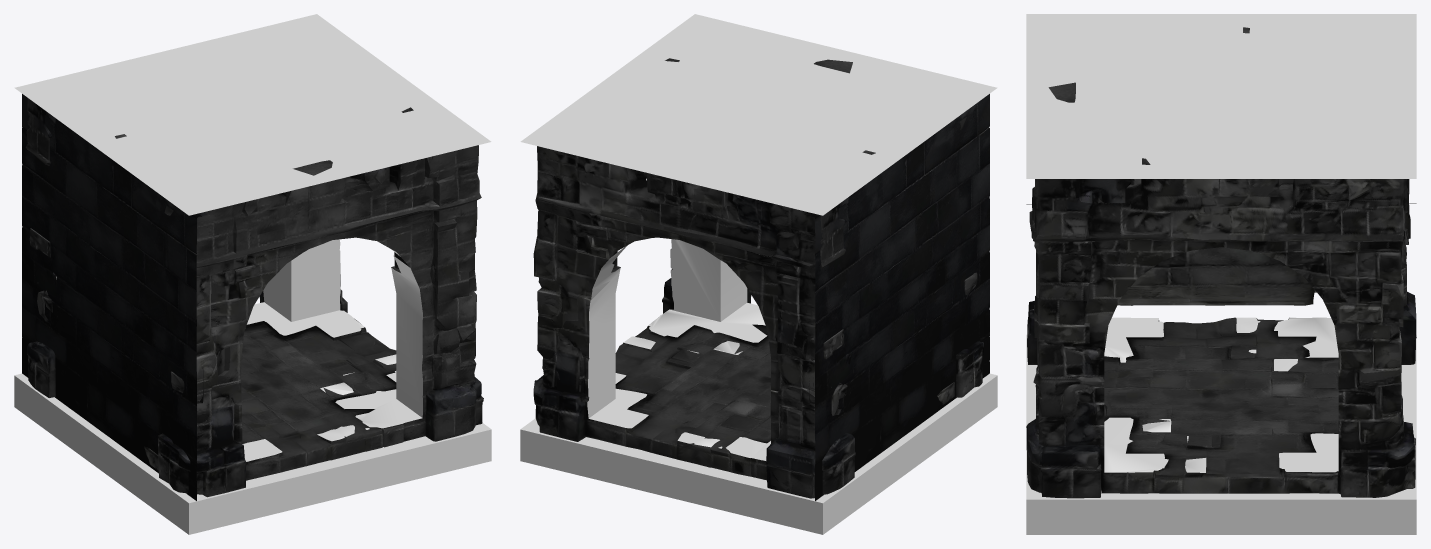
Rendered from module_tee.glb.
3 renders of one model, left to right at view 1: azimuth 30°, elevation 25°; view 2: azimuth 150°, elevation 25°; view 3: azimuth 270°, elevation 25°, orthographic. The views are drawn at different scales.
Parts seen in each view (by area): view 1: tripo_node_8c5739aa-f84c-4d8b-8e59-f022d221bb8c; view 2: tripo_node_8c5739aa-f84c-4d8b-8e59-f022d221bb8c; view 3: tripo_node_8c5739aa-f84c-4d8b-8e59-f022d221bb8c.
Part boxes in pixels (x1,y1,x2,y2): tripo_node_8c5739aa-f84c-4d8b-8e59-f022d221bb8c: [14, 14, 491, 534]; tripo_node_8c5739aa-f84c-4d8b-8e59-f022d221bb8c: [520, 14, 997, 534]; tripo_node_8c5739aa-f84c-4d8b-8e59-f022d221bb8c: [1026, 14, 1416, 534].
Bounding box in the file's own units: 6 × 6.06 × 6.
Materials: 3 (2 with a texture image).
